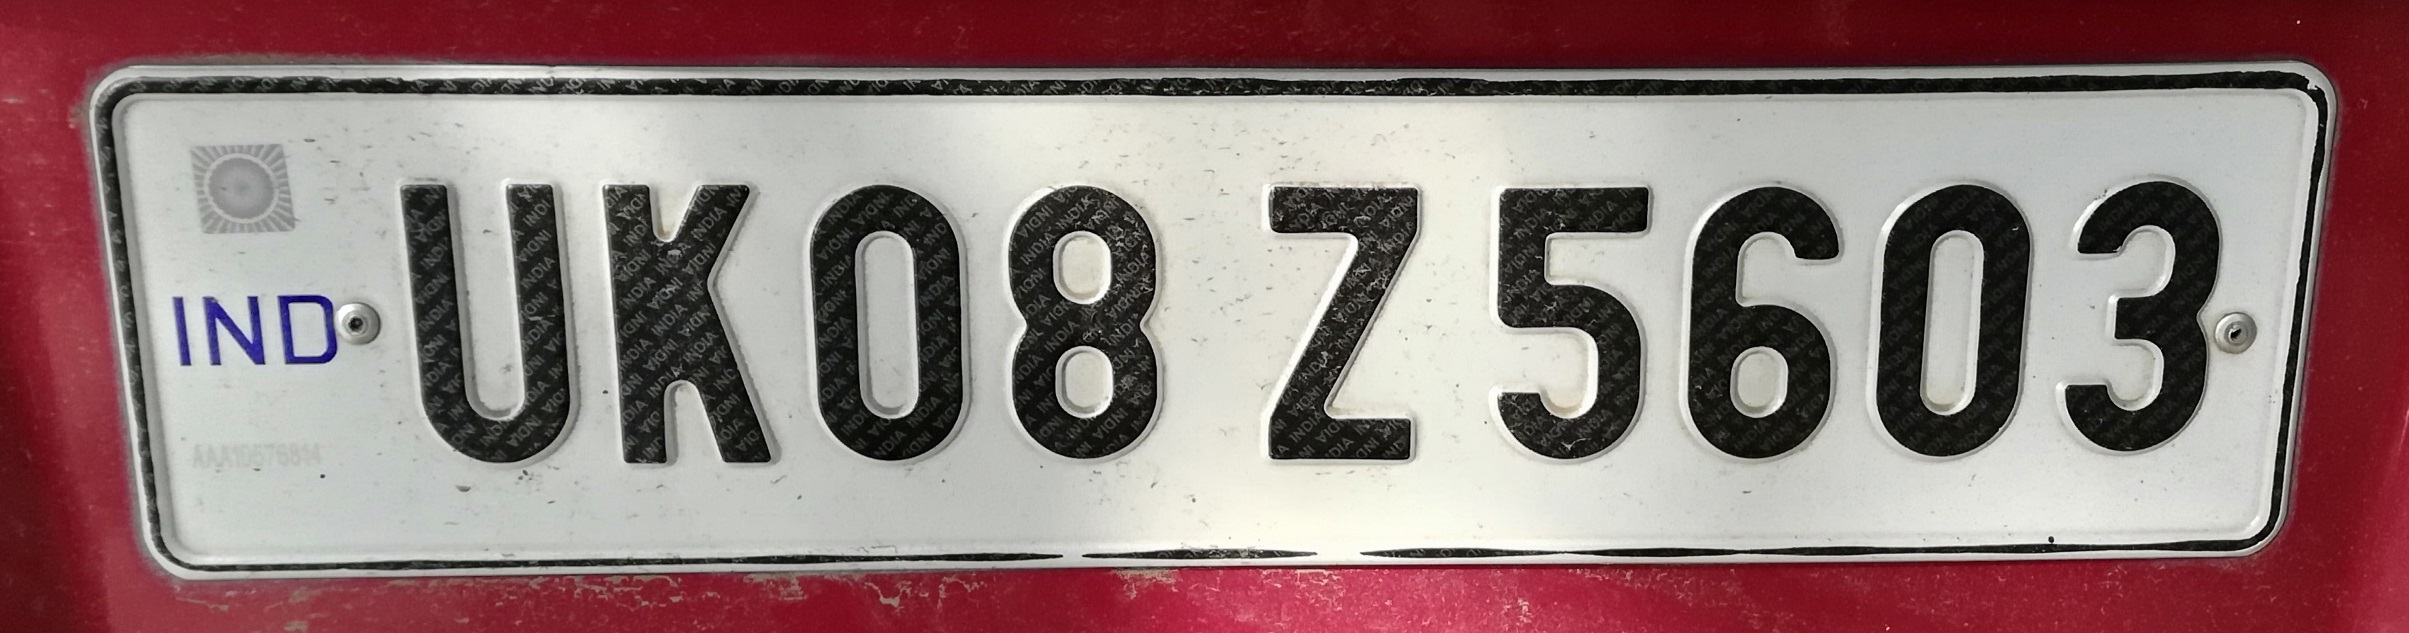numberplate: (84, 54, 2322, 596)
